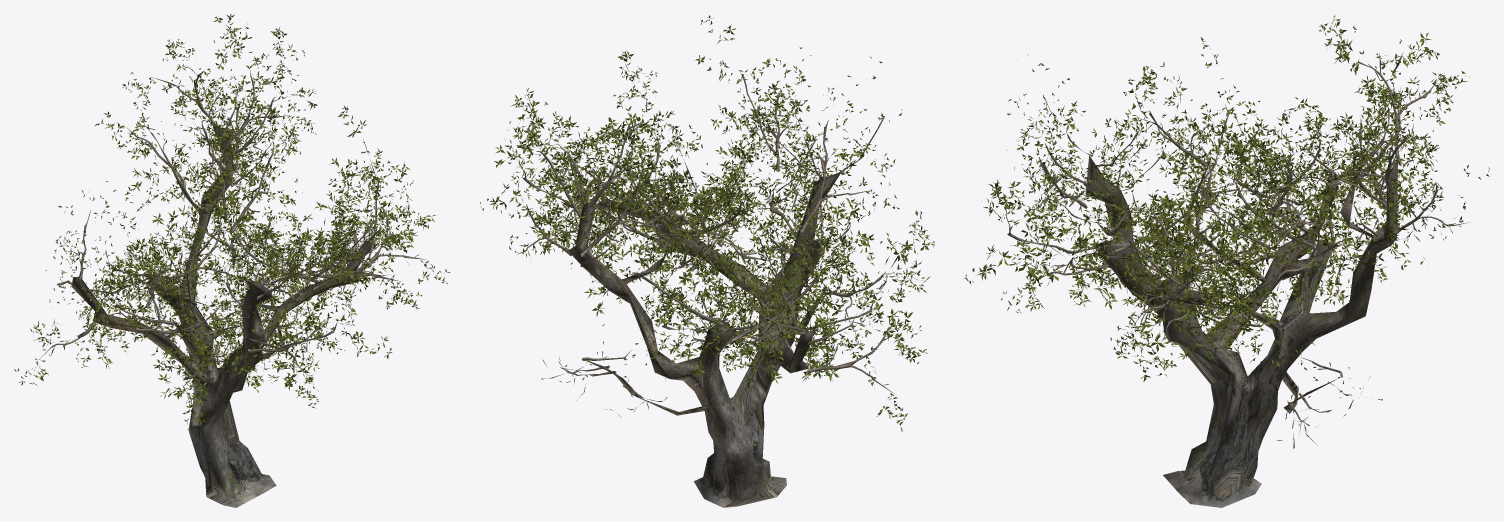
The model's file is island_tree_01-lod0.glb.
The picture shows the model from 3 angles, left to right: view 1: azimuth 30°, elevation 25°; view 2: azimuth 150°, elevation 25°; view 3: azimuth 270°, elevation 25°; orthographic projection. The views are drawn at different scales.
Parts seen in each view (by area): view 1: island_tree_01_LOD0; view 2: island_tree_01_LOD0; view 3: island_tree_01_LOD0.
Part boxes in pixels (box(x1,y1,x2,y2)): island_tree_01_LOD0: box(14, 14, 449, 507); island_tree_01_LOD0: box(480, 15, 934, 507); island_tree_01_LOD0: box(964, 15, 1489, 507).
Bounding box in the file's own units: 9.4 × 9.94 × 9.46.
3 materials, 3 textured.
